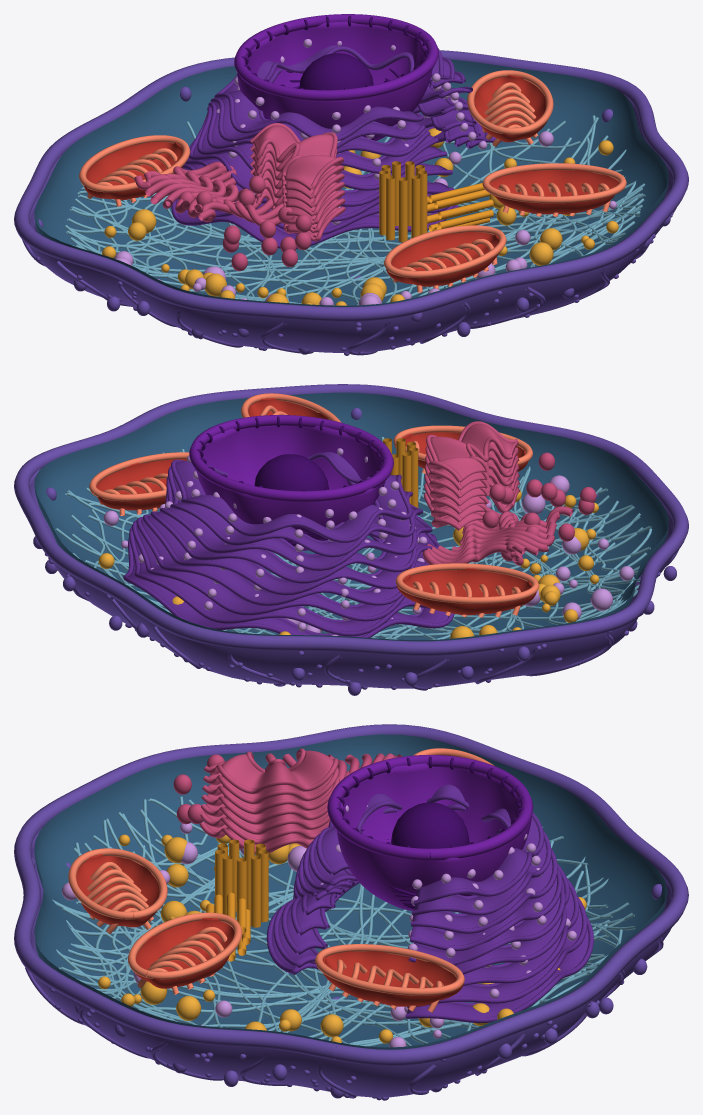
Rendered from animal-cell.glb.
The picture shows the model from 3 angles, top to bottom: view 1: azimuth 30°, elevation 25°; view 2: azimuth 150°, elevation 25°; view 3: azimuth 270°, elevation 25°; orthographic projection. The views are drawn at different scales.
Parts seen in each view (by area): view 1: membrane, cytoplasm, er, mitochondria, fibers, nucleus, golgi, vesicles, centrioles, ribosomes, nucleolus; view 2: er, membrane, cytoplasm, nucleus, mitochondria, fibers, golgi, ribosomes, vesicles, nucleolus, centrioles; view 3: membrane, cytoplasm, er, mitochondria, fibers, nucleus, golgi, vesicles, centrioles, ribosomes, nucleolus.
Boxes of the visible parts, x1,y1,x2,y2 form: membrane: (14, 50, 688, 355); cytoplasm: (34, 59, 668, 306); er: (134, 45, 501, 248); mitochondria: (79, 70, 626, 292); fibers: (65, 114, 645, 305); nucleus: (234, 14, 438, 140); golgi: (178, 123, 345, 271); vesicles: (102, 128, 618, 305); centrioles: (379, 161, 493, 242); ribosomes: (114, 39, 616, 305); nucleolus: (299, 53, 373, 90); er: (123, 452, 573, 637); membrane: (14, 384, 688, 695); cytoplasm: (34, 392, 668, 641); nucleus: (189, 415, 393, 550); mitochondria: (89, 393, 539, 617); fibers: (55, 437, 652, 639); golgi: (423, 421, 596, 561); ribosomes: (103, 448, 634, 635); vesicles: (98, 490, 599, 638); nucleolus: (254, 454, 328, 490); centrioles: (383, 438, 418, 507); membrane: (14, 724, 688, 1100); cytoplasm: (34, 734, 667, 1049); er: (265, 753, 593, 1022); mitochondria: (68, 748, 494, 1012); fibers: (52, 784, 635, 1046); nucleus: (327, 755, 533, 910); golgi: (173, 748, 339, 854); vesicles: (98, 834, 586, 1043); centrioles: (206, 839, 268, 961); ribosomes: (61, 805, 576, 1047); nucleolus: (391, 802, 469, 848).
Size of the model in its own units: 6.81 by 2.15 by 5.84.
